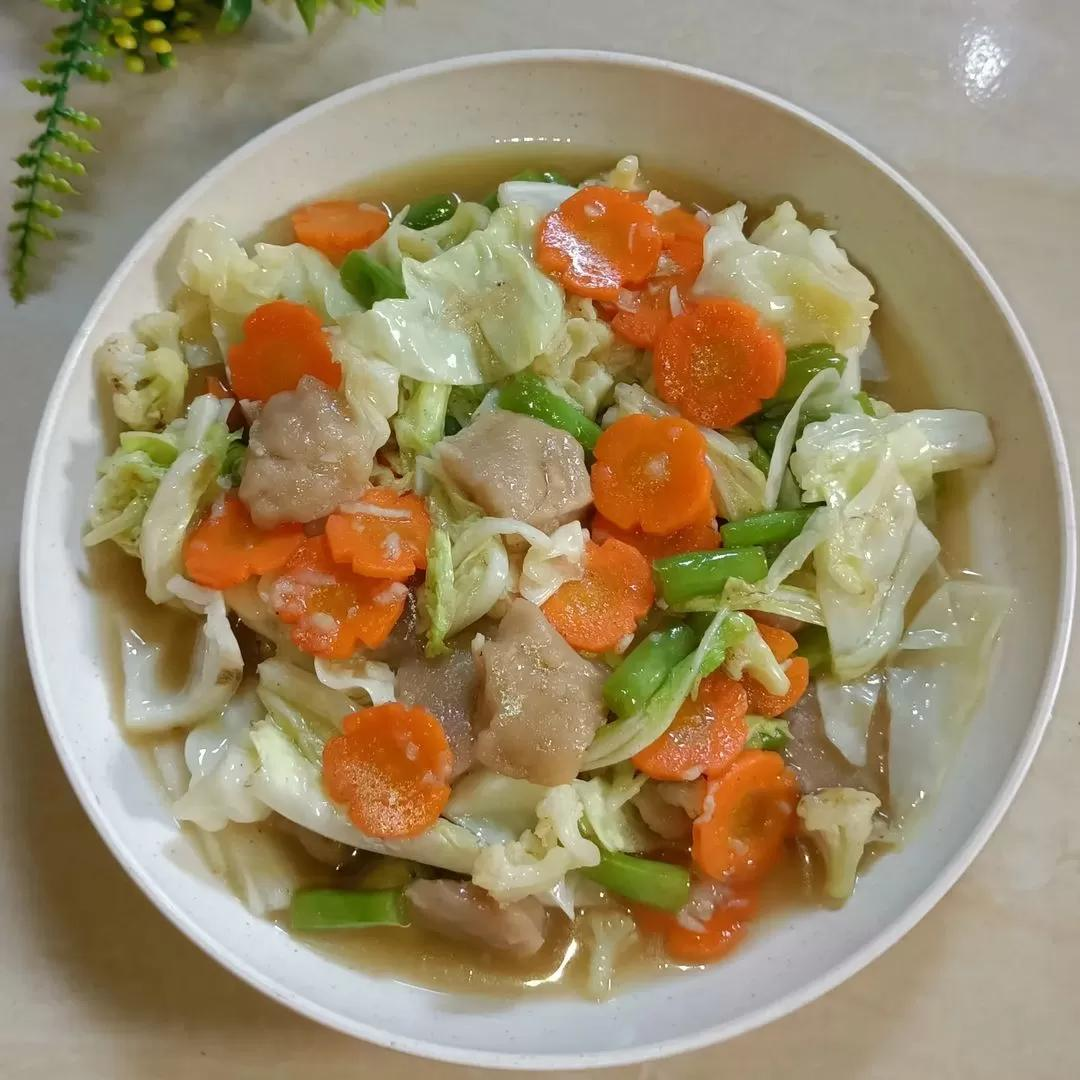buah_sayur_vitA: (204, 274, 873, 890)
